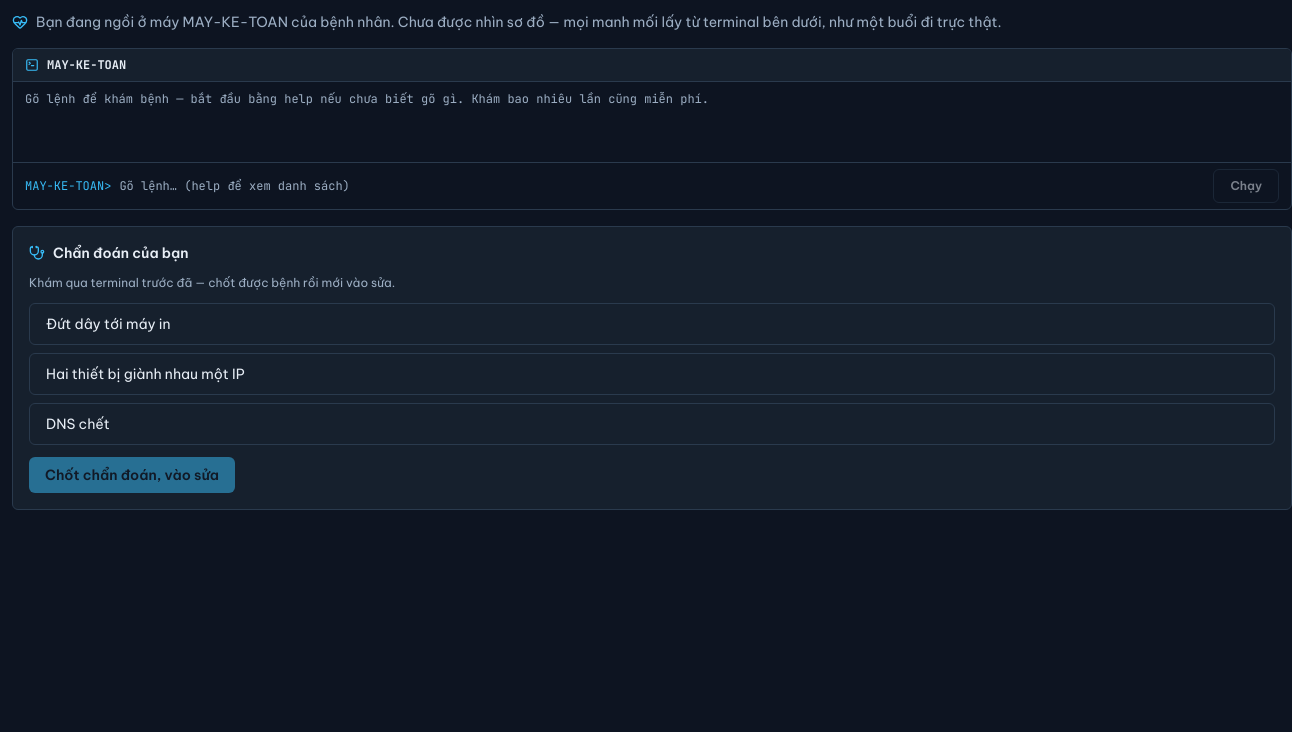
Test: pha khám — chỉ có terminal, không sơ đồ › output thiết bị là tiếng Anh nghề thật, suy từ mô phỏng
The width and height of the screenshot is (1292, 732).
In the field named "Ô gõ lệnh": (662, 186) top-left (119, 174), bottom-right (1205, 198), type "ipconfig"
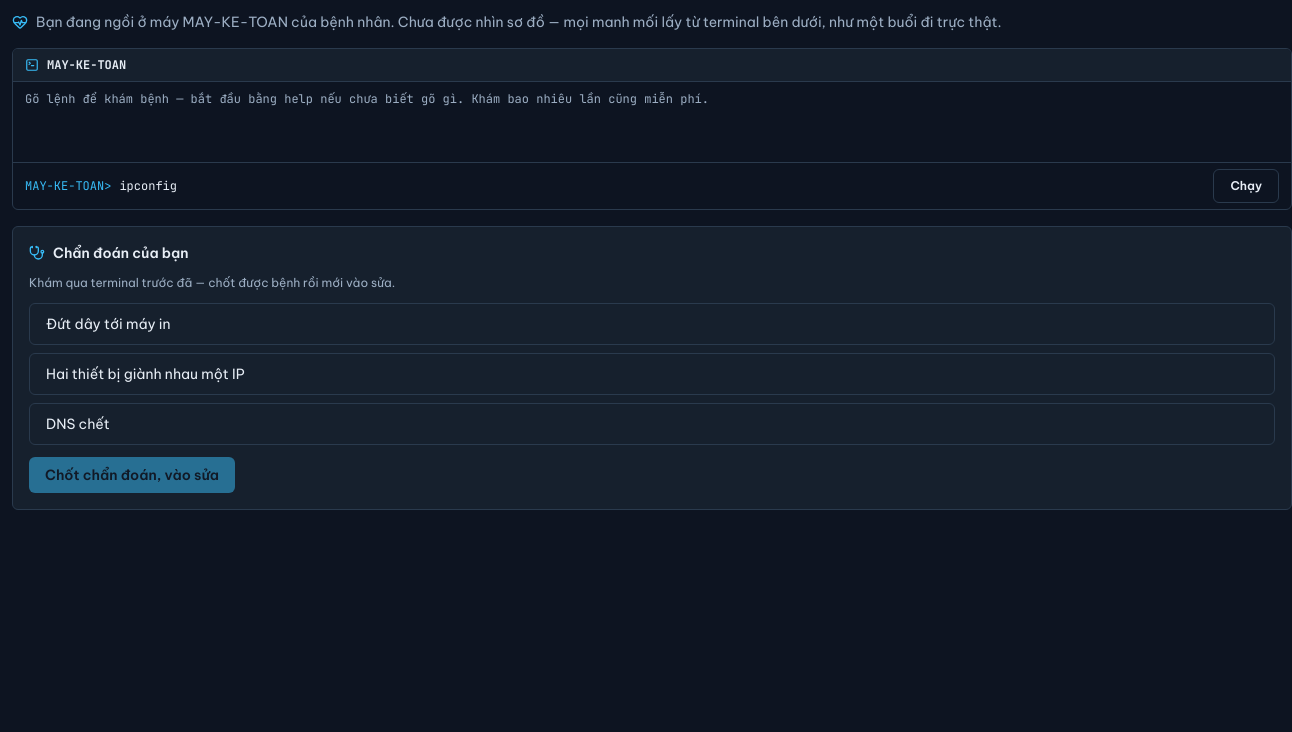
Click the button "Chạy": (1246, 186) top-left (1213, 169), bottom-right (1279, 203)
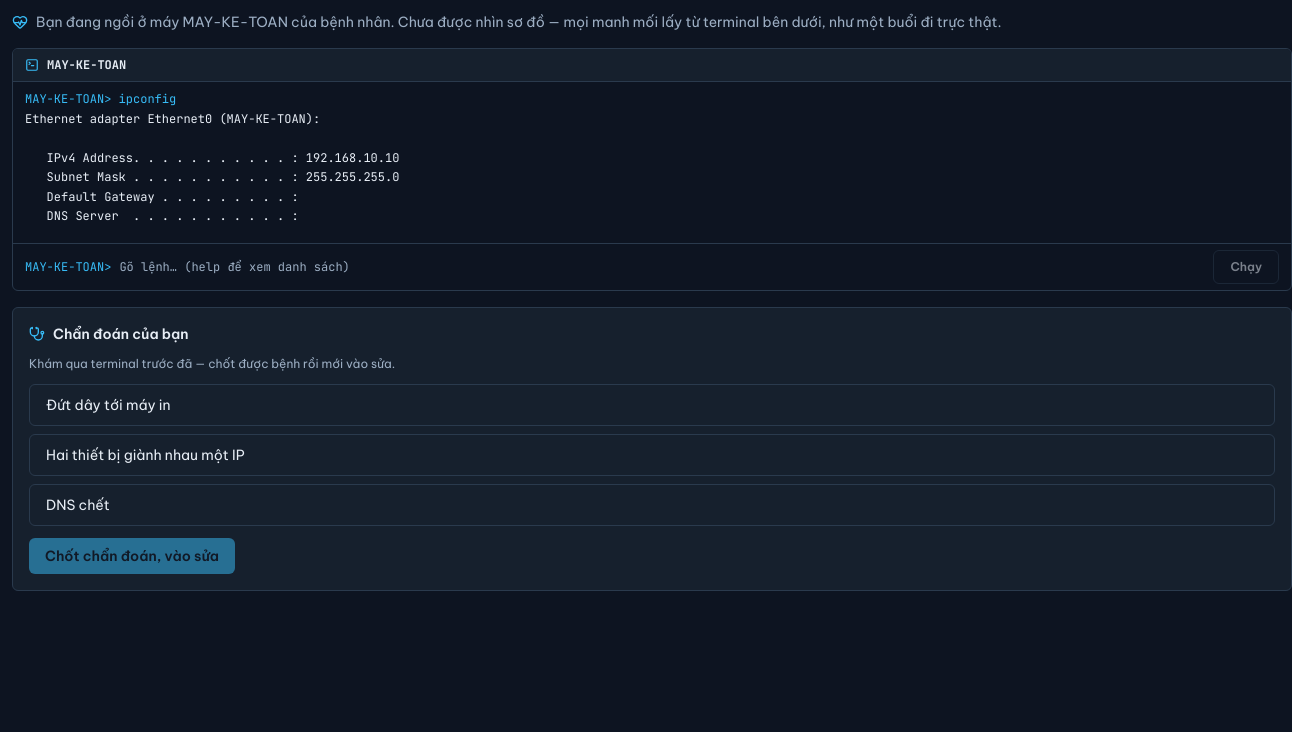
In the field named "Ô gõ lệnh": (662, 266) top-left (119, 254), bottom-right (1205, 278), type "ping 192.168.10.20"
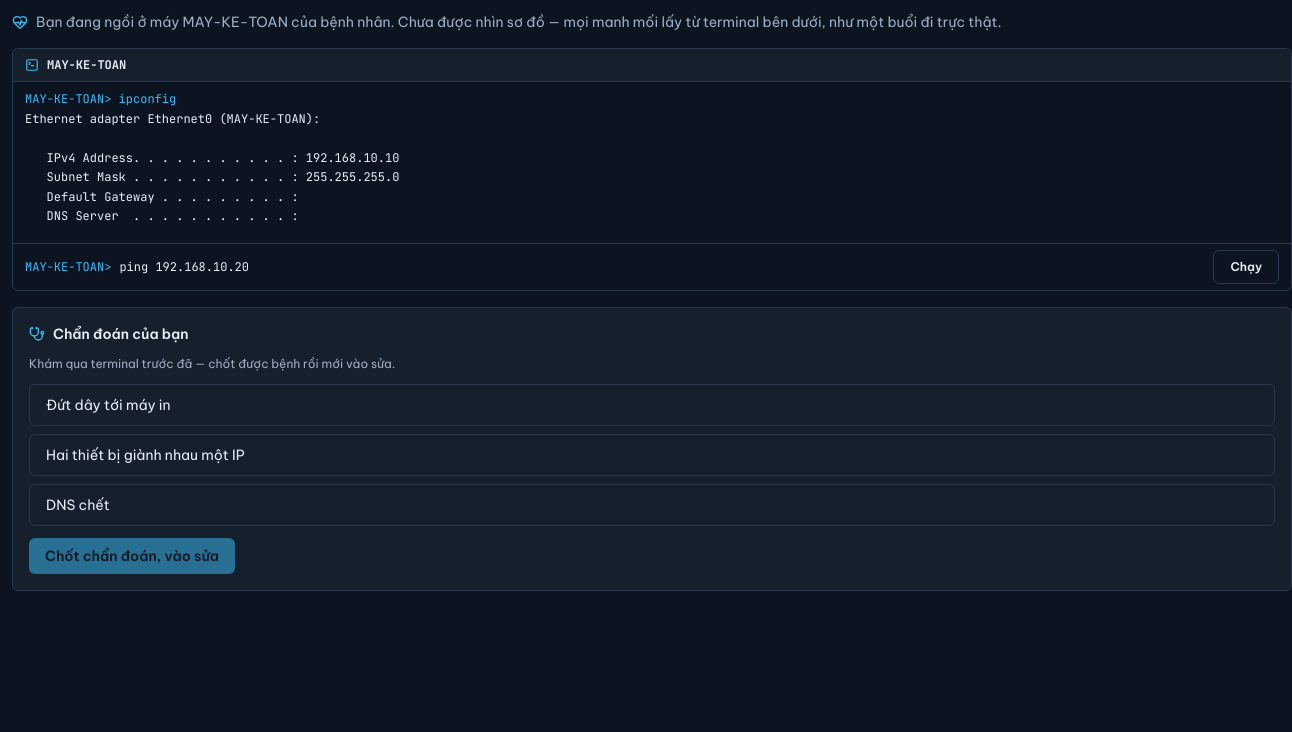
Click the button "Chạy": (1246, 266) top-left (1213, 250), bottom-right (1279, 284)
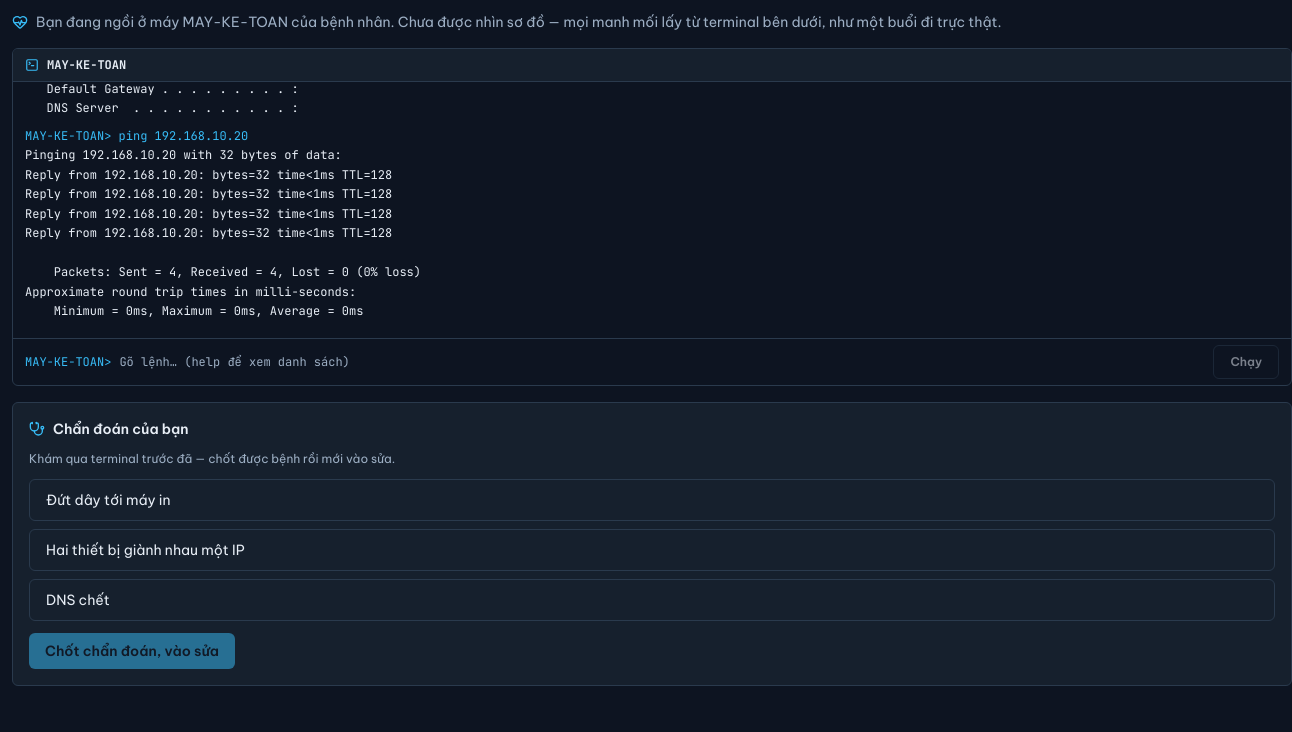
Expected: the text "Reply from 192.168.10.20" is shown, top-left (25, 147), bottom-right (421, 319)
